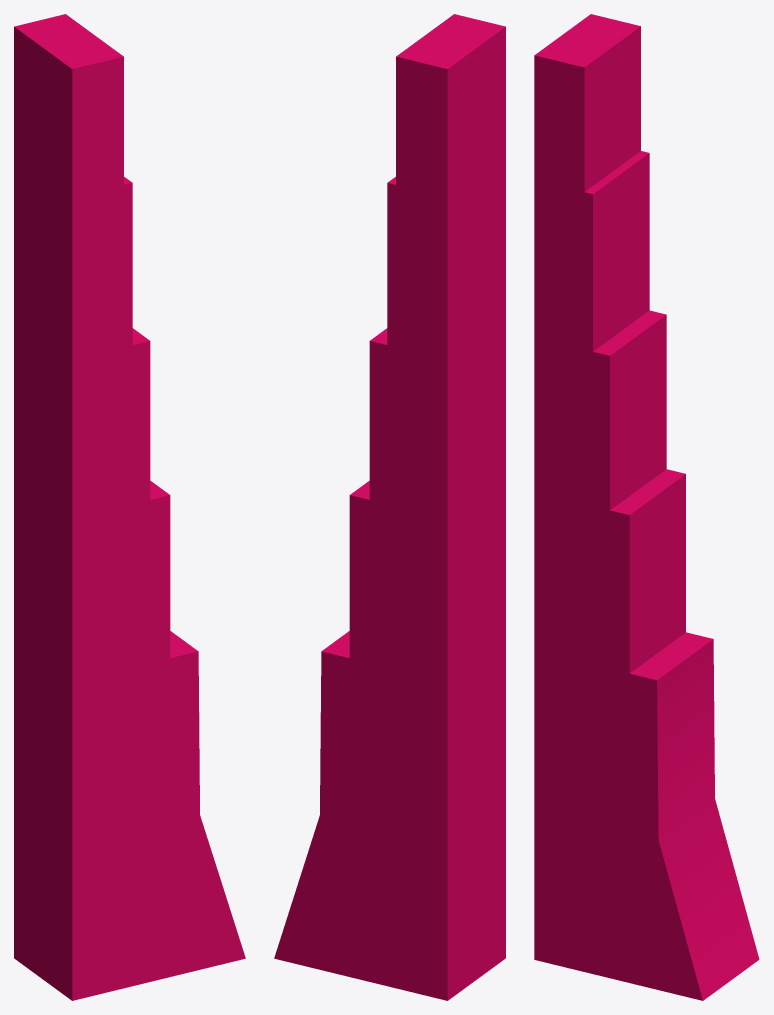
File: Wall_Orn_01.fbx
3 views of the same model, side by side, from view 1: azimuth 30°, elevation 25°; view 2: azimuth 150°, elevation 25°; view 3: azimuth 330°, elevation 25° (orthographic). The views are drawn at different scales.
Visible parts, largest first — view 1: Wall_Orn_01; view 2: Wall_Orn_01; view 3: Wall_Orn_01.
Part boxes in pixels (<box>): Wall_Orn_01: <box>14,14,245,1000</box>; Wall_Orn_01: <box>274,14,505,1000</box>; Wall_Orn_01: <box>534,14,759,1000</box>.
Bounding box in the file's own units: 595 × 3050 × 345.
